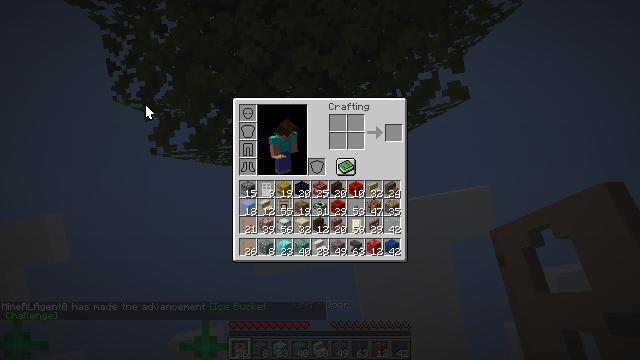cursor: (145, 104, 155, 120)
